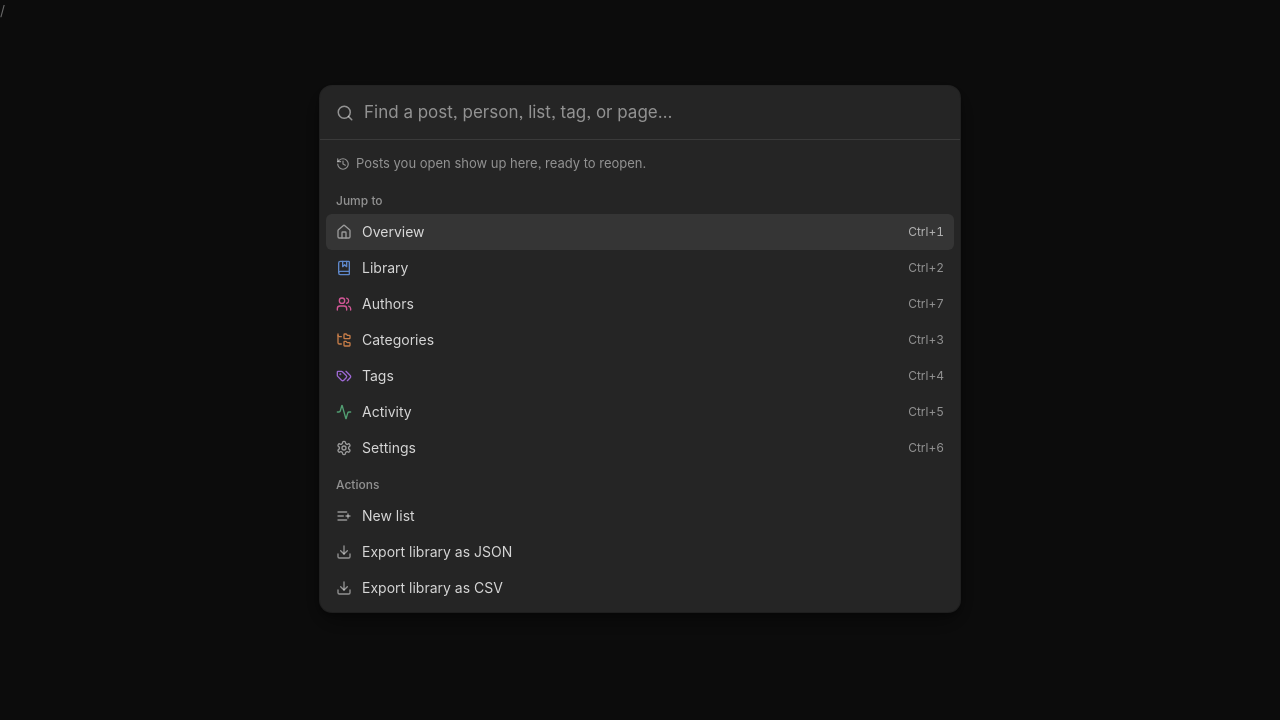
Test case: finder › does not search until two characters are typed
Step 1. Type "e" into the dropdown → [656, 113], box top-left (364, 100), bottom-right (948, 126)
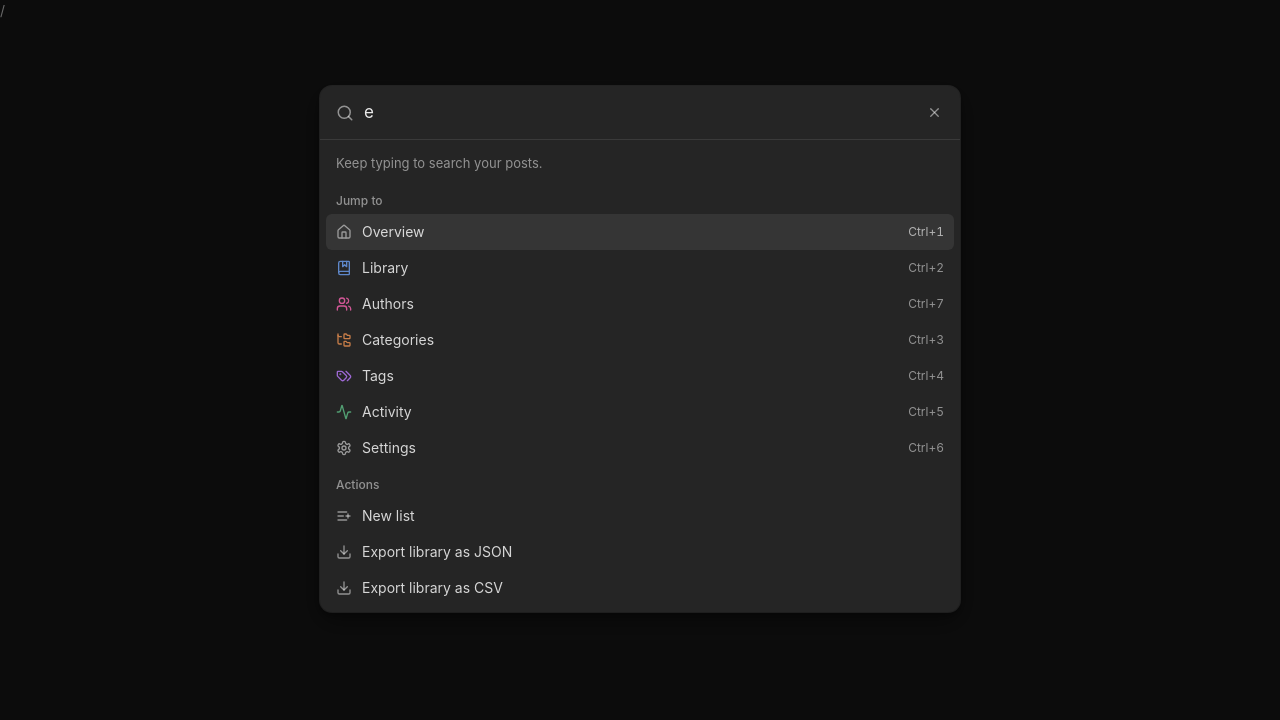
Expected: the text "Keep typing to search your posts." is shown, top-left (336, 155), bottom-right (543, 171)
